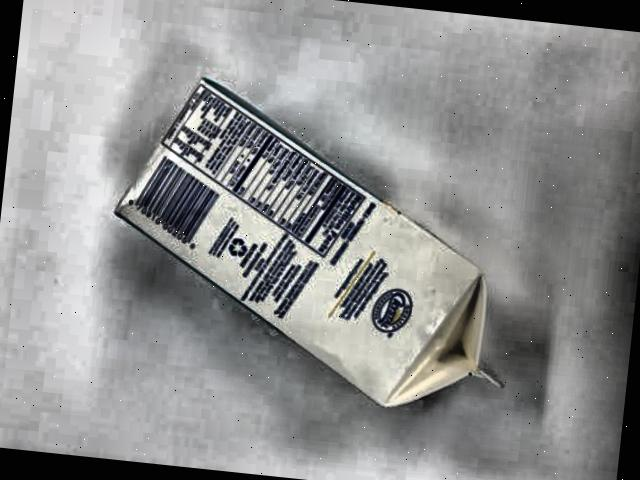Paper: (89, 57, 570, 445)
